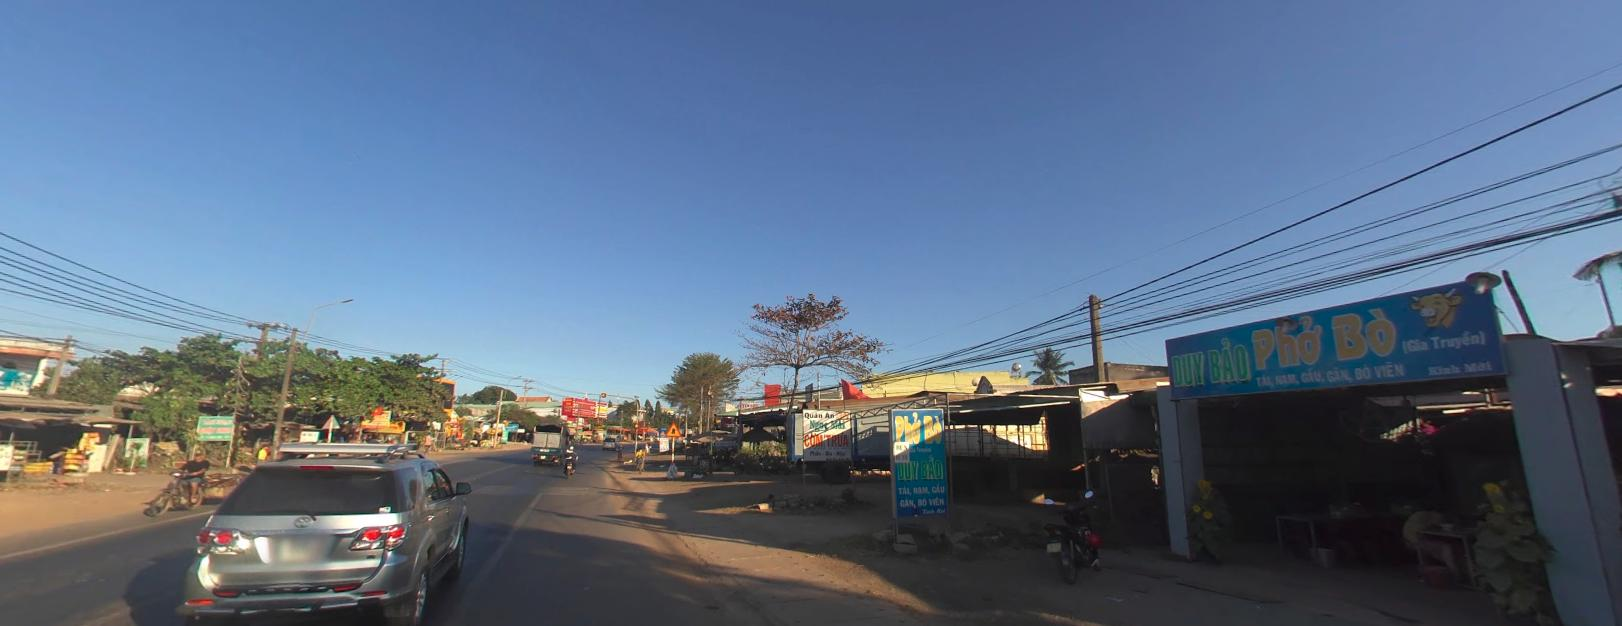Nguy hiem: (664, 419, 682, 436), (664, 420, 681, 436), (665, 420, 680, 435)
